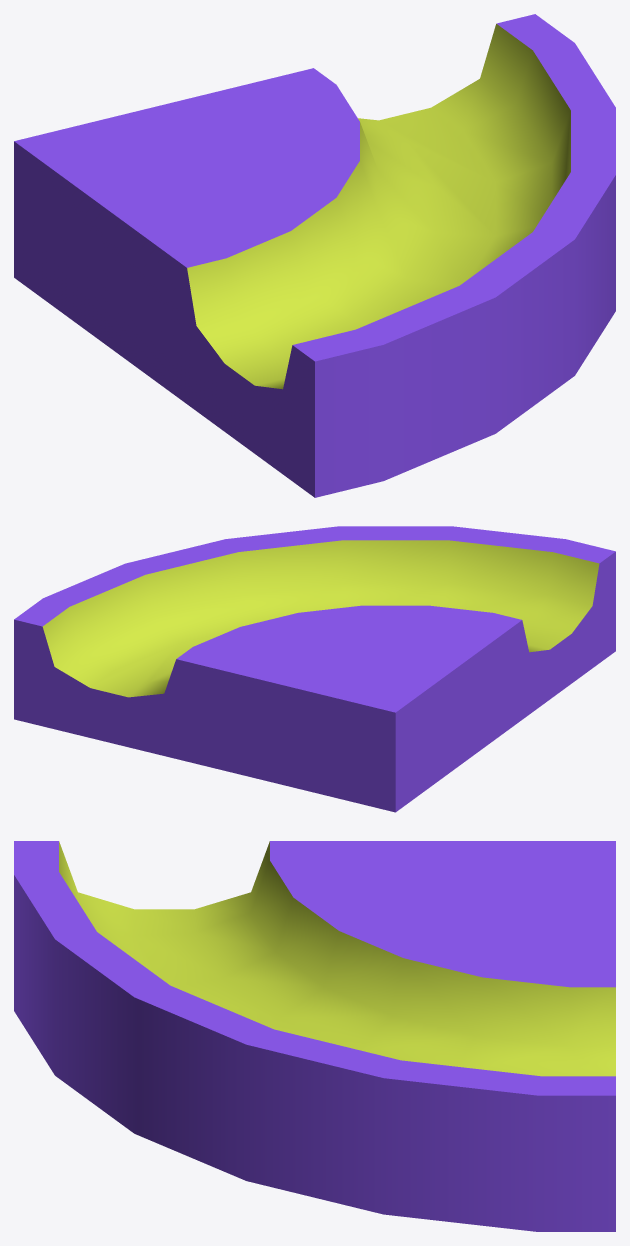
The picture shows the model from 3 angles, top to bottom: view 1: azimuth 30°, elevation 25°; view 2: azimuth 150°, elevation 25°; view 3: azimuth 270°, elevation 25°; orthographic projection. The views are drawn at different scales.
Visible parts, largest first — view 1: curve_solid; view 2: curve_solid; view 3: curve_solid.
Boxes of the visible parts, x1,y1,x2,y2 form: curve_solid: (14, 14, 615, 497); curve_solid: (14, 526, 615, 812); curve_solid: (14, 841, 615, 1231).
Size of the model in its own units: 20 by 5 by 20.
